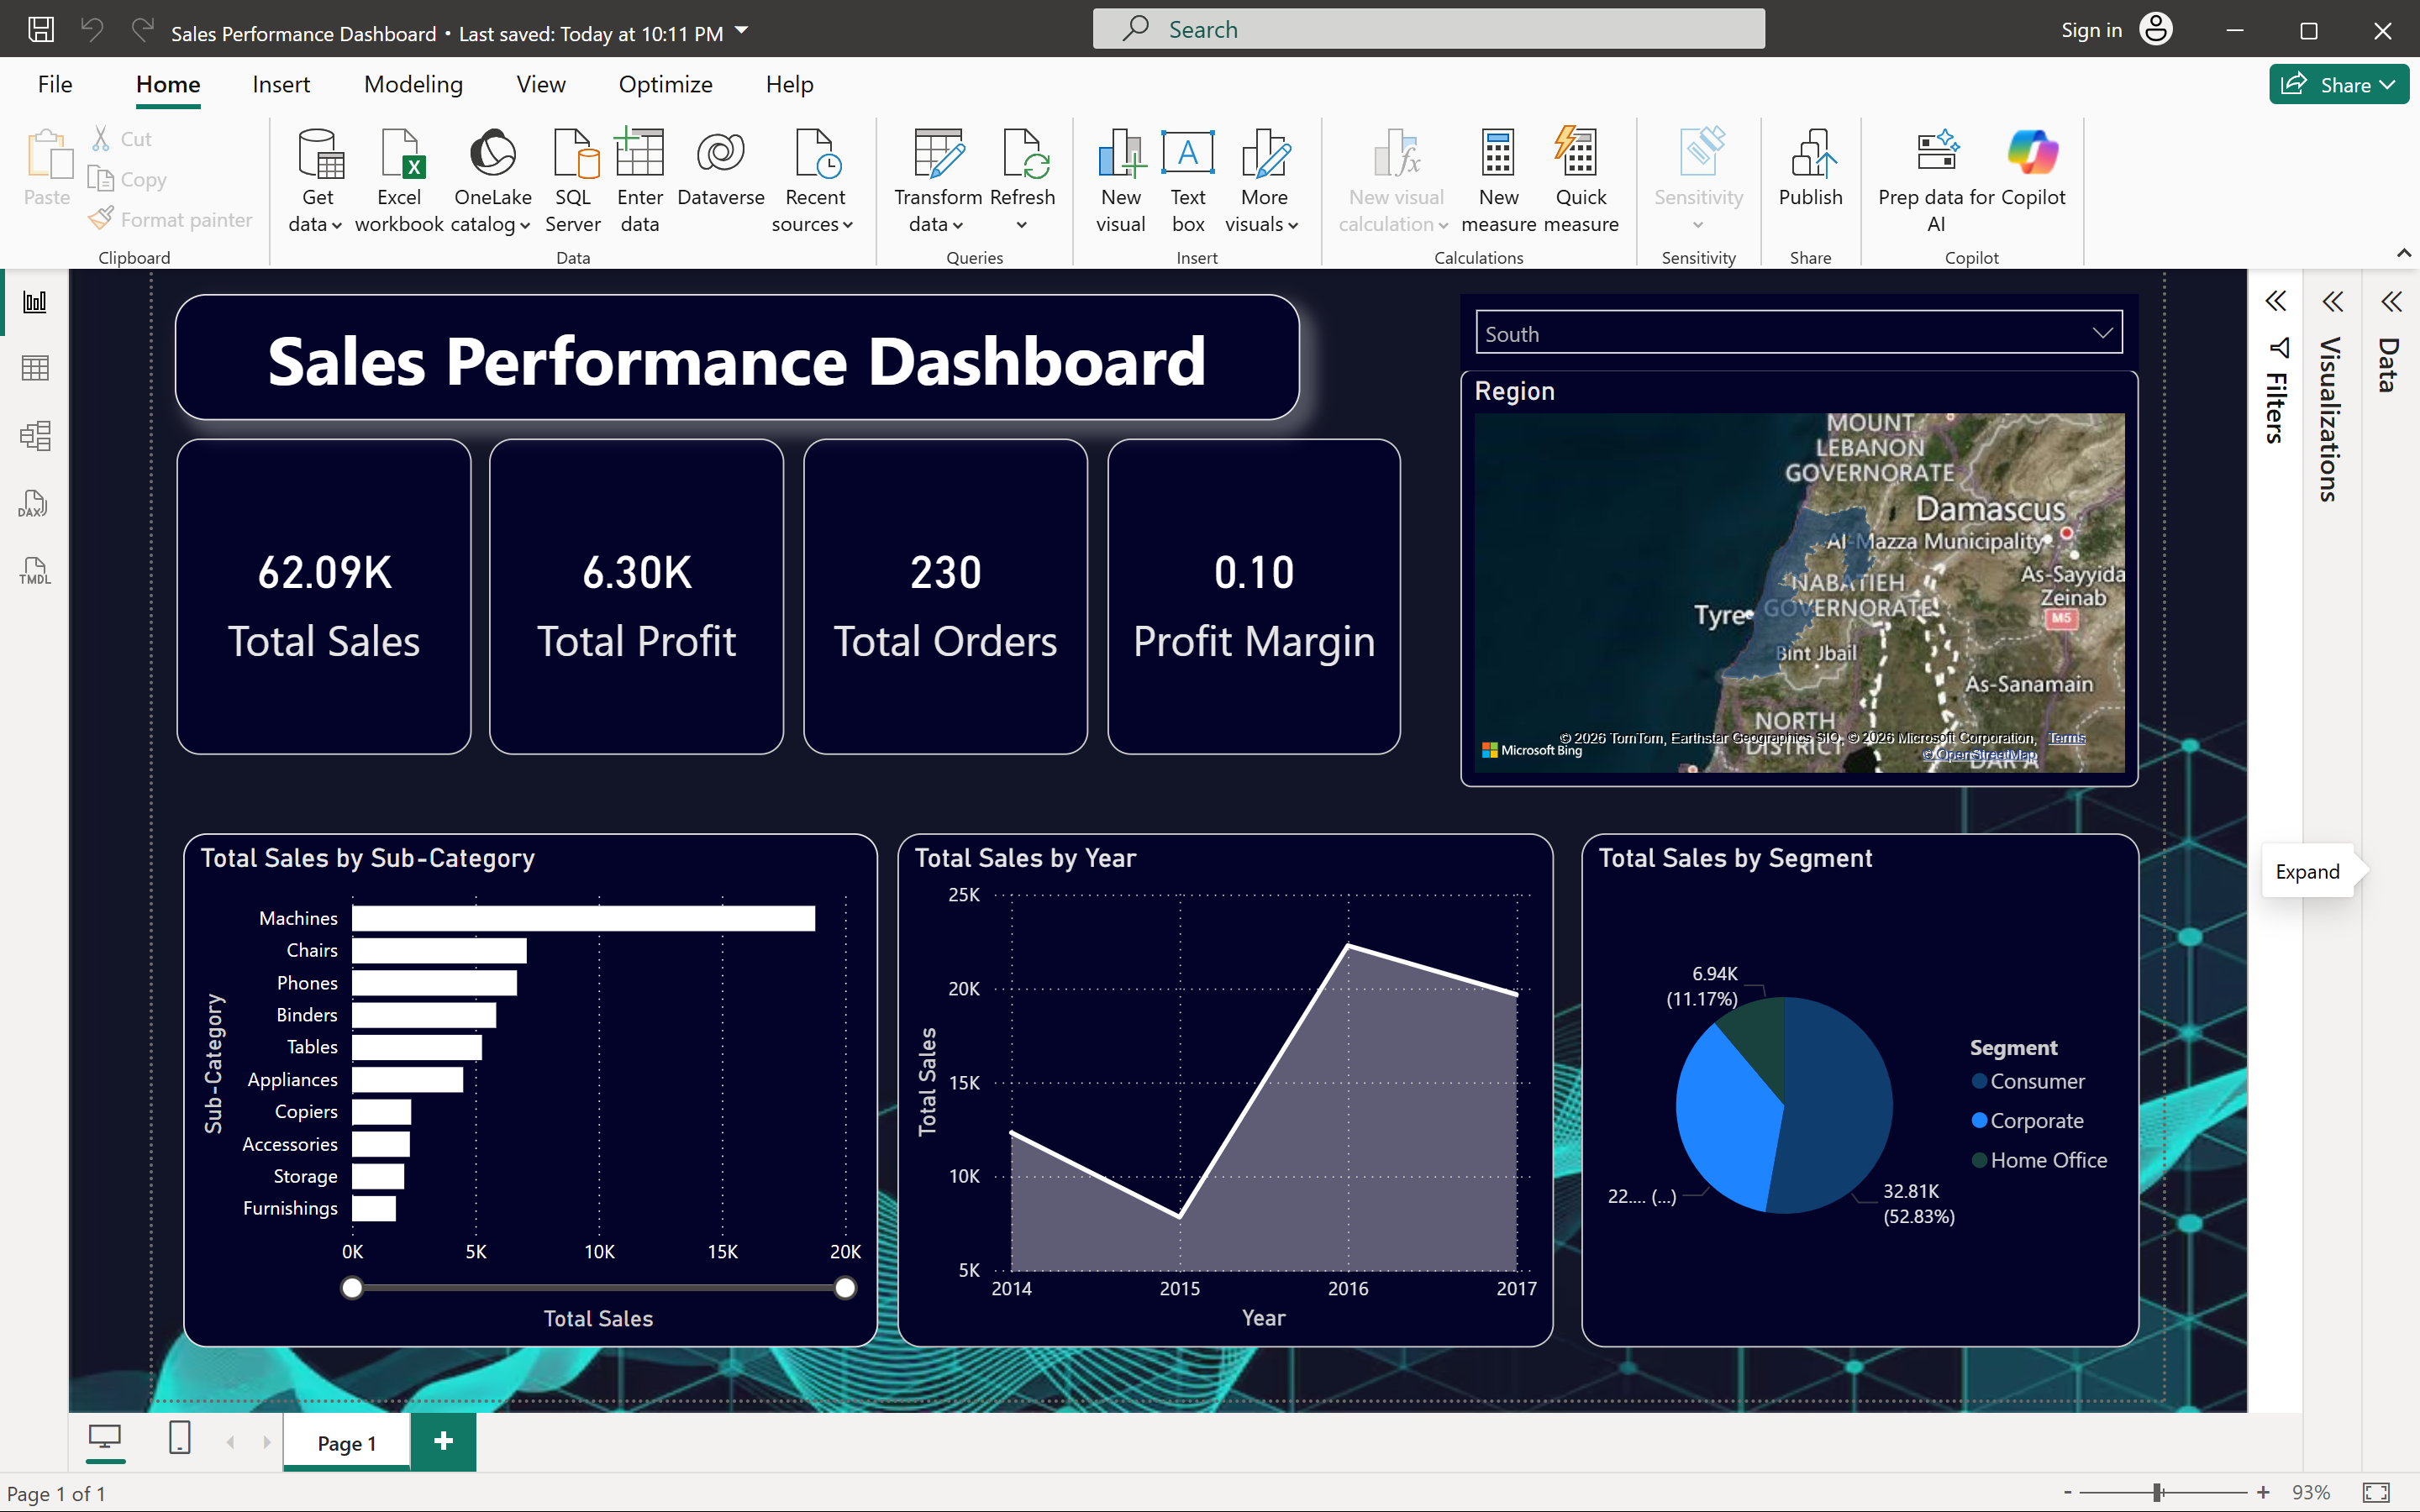

The page's visual inventory and layout, read from the dashboard file:
{"tool":"powerbi","page":{"name":"Page 1","canvas":[1280,720],"ordinal":0},"visuals":[{"type":"card","fields":{"Values":["Superstore.Total Sales"]},"box":[0,90.3,279.7,279.7],"z":0},{"type":"card","fields":{"Values":["Superstore.Total Profit"]},"box":[203.6,90.3,263.8,279.7],"z":1000},{"type":"card","fields":{"Values":["Superstore.Total Orders"]},"box":[405.4,90.3,263.8,279.7],"z":2000},{"type":"card","fields":{"Values":["Superstore.Profit Margin"]},"box":[614.3,90.3,278,279.7],"z":3000},{"type":"clusteredBarChart","fields":{"Category":["Superstore.Sub-Category"],"Y":["Superstore.Total Sales"]},"box":[16,368,400,320],"z":4000},{"type":"lineChart","fields":{"Category":["Superstore.Order Date.Variation.Date Hierarchy.Year","Superstore.Order Date.Variation.Date Hierarchy.Quarter","Superstore.Order Date.Variation.Date Hierarchy.Month","Superstore.Order Date.Variation.Date Hierarchy.Day"],"Y":["Superstore.Total Sales"]},"box":[432,368,400,320],"z":5000},{"type":"pieChart","fields":{"Category":["Superstore.Segment"],"Y":["Superstore.Total Sales"]},"box":[832,368,432,352],"z":6000},{"type":"filledMap","fields":{"Category":["Superstore.Region"]},"box":[848,80,416,272],"z":7000},{"type":"slicer","fields":{"Values":["Superstore.Region"]},"box":[832,16,432,64],"z":8000},{"type":"textbox","box":[614.3,704.6,256.7,15.9],"z":9000},{"type":"textbox","box":[48,32,736,80],"z":10000}]}

Visuals, with their boxes on the page's 1280x720 design canvas (x1, y1, x2, y2). These are canvas units, not pixel positions in the 2420x1512 screenshot, which may show the page scaled, cropped or inside an application window:
card - Superstore.Total Sales: [x1=0, y1=90, x2=280, y2=370]
card - Superstore.Total Profit: [x1=204, y1=90, x2=467, y2=370]
card - Superstore.Total Orders: [x1=405, y1=90, x2=669, y2=370]
card - Superstore.Profit Margin: [x1=614, y1=90, x2=892, y2=370]
clusteredBarChart - Superstore.Sub-Category x Superstore.Total Sales: [x1=16, y1=368, x2=416, y2=688]
lineChart - Superstore.Order Date.Variation.Date Hierarchy.Year x Superstore.Order Date.Variation.Date Hierarchy.Quarter: [x1=432, y1=368, x2=832, y2=688]
pieChart - Superstore.Segment x Superstore.Total Sales: [x1=832, y1=368, x2=1264, y2=720]
filledMap - Superstore.Region: [x1=848, y1=80, x2=1264, y2=352]
slicer - Superstore.Region: [x1=832, y1=16, x2=1264, y2=80]
textbox: [x1=614, y1=705, x2=871, y2=720]
textbox: [x1=48, y1=32, x2=784, y2=112]
